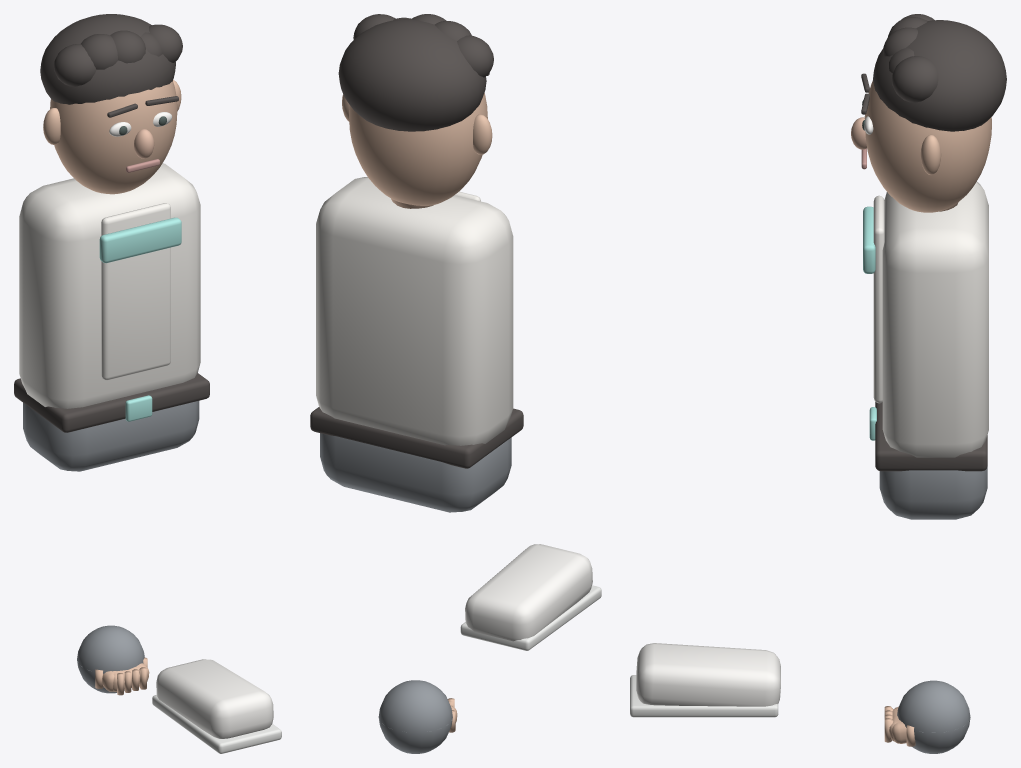
3 renders of one model, left to right at view 1: azimuth 30°, elevation 25°; view 2: azimuth 150°, elevation 25°; view 3: azimuth 270°, elevation 25°, orthographic. The views are drawn at different scales.
Parts seen in each view (by area): view 1: Torso, ShirtFront, HeadMesh, Pelvis, ShoeL, HairCap, Belt, ThighL_cap_a, PoloCollar, SoleL, HairClump_0, HairClump_1 (+5 smaller); view 2: Torso, HairCap, Pelvis, HeadMesh, ShoeL, ThighL_cap_a, Belt, SoleL, ThighL_cap_b, HairClump_0, EarL; view 3: Torso, HairCap, HeadMesh, ShoeL, Pelvis, ThighL_cap_a, Belt, ShirtFront, SoleL, HairClump_4, ThighL_cap_b, PoloCollar (+2 smaller).
Boxes of the visible parts, left/top/right/bottom form: Torso: left=19, top=163, right=200, bottom=408; ShirtFront: left=101, top=203, right=170, bottom=380; HeadMesh: left=50, top=81, right=177, bottom=194; Pelvis: left=23, top=401, right=199, bottom=471; ShoeL: left=156, top=659, right=273, bottom=738; HairCap: left=40, top=14, right=175, bottom=104; Belt: left=14, top=373, right=209, bottom=432; ThighL_cap_a: left=77, top=625, right=144, bottom=693; PoloCollar: left=99, top=217, right=181, bottom=263; SoleL: left=152, top=695, right=281, bottom=753; HairClump_0: left=53, top=44, right=96, bottom=86; HairClump_1: left=81, top=34, right=117, bottom=69; Torso: left=316, top=177, right=513, bottom=445; HairCap: left=338, top=19, right=486, bottom=131; Pelvis: left=320, top=433, right=511, bottom=512; HeadMesh: left=349, top=93, right=487, bottom=205; ShoeL: left=465, top=544, right=592, bottom=641; ThighL_cap_a: left=378, top=680, right=452, bottom=753; Belt: left=310, top=407, right=523, bottom=468; SoleL: left=460, top=585, right=601, bottom=650; ThighL_cap_b: left=379, top=681, right=449, bottom=753; HairClump_0: left=457, top=35, right=493, bottom=77; EarL: left=473, top=114, right=492, bottom=154; Torso: left=882, top=181, right=988, bottom=457; HairCap: left=873, top=20, right=1006, bottom=131; HeadMesh: left=864, top=80, right=991, bottom=212; ShoeL: left=636, top=643, right=780, bottom=706; Pelvis: left=879, top=466, right=987, bottom=519; ThighL_cap_a: left=897, top=680, right=970, bottom=753; Belt: left=875, top=402, right=987, bottom=471; ShirtFront: left=873, top=195, right=884, bottom=403; SoleL: left=630, top=675, right=778, bottom=717; HairClump_4: left=891, top=56, right=938, bottom=102; ThighL_cap_b: left=898, top=685, right=969, bottom=752; PoloCollar: left=863, top=206, right=875, bottom=273.
Bounding box in the file's own units: 0.43 × 1.77 × 0.838.
